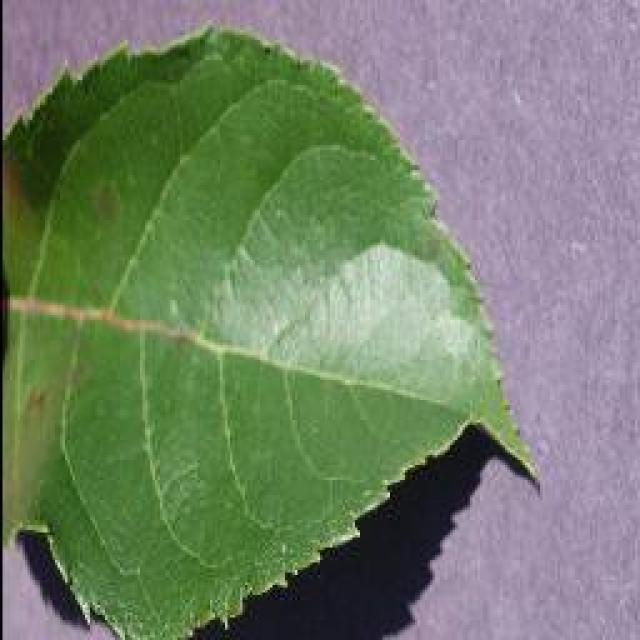apple scab disease: (0, 20, 540, 638)
